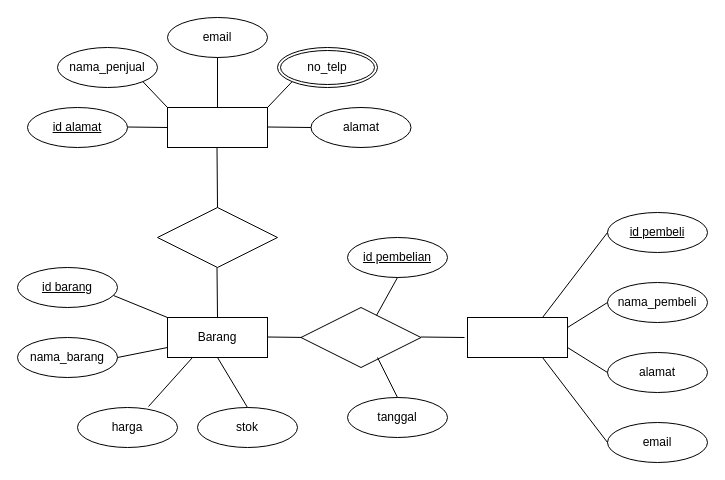
The diagram is 725 pixels wide and 480 high, and some of its shapes have lost their labels. Each missing label, with the centre of its shape:
"dibeli" goes at [360,337].
"menjual" goes at [217,237].
"Pembeli" goes at [517,337].
"Penjual" goes at [217,127].
